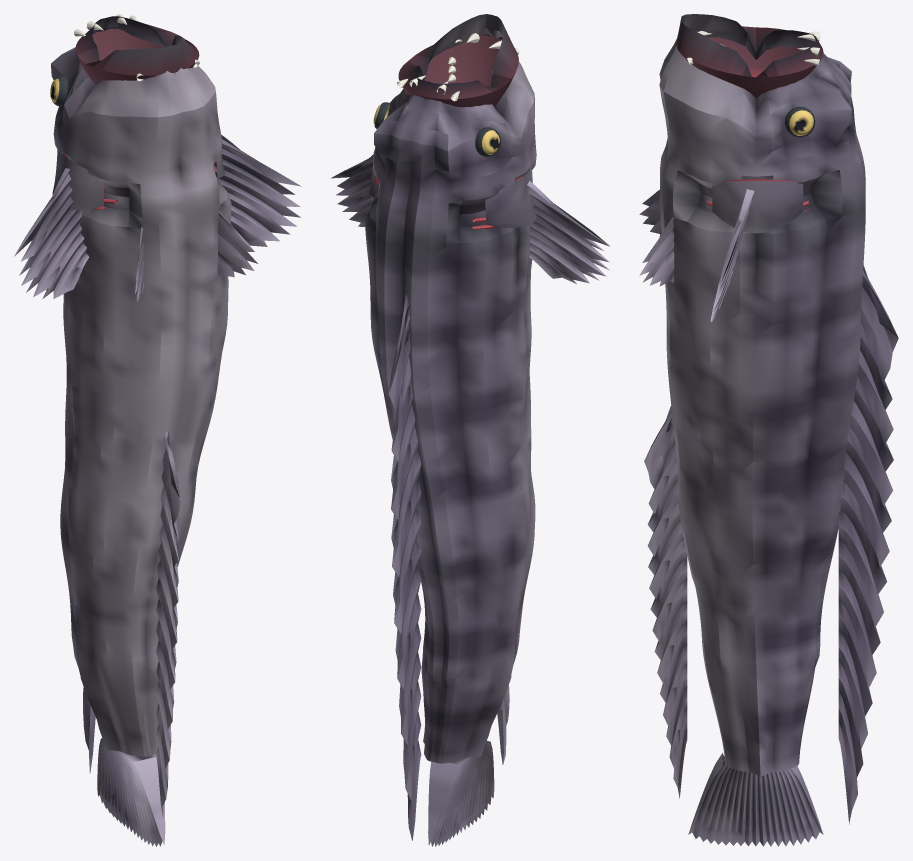
File: fish_wolffish.glb
3 renders of one model, left to right at view 1: azimuth 30°, elevation 25°; view 2: azimuth 150°, elevation 25°; view 3: azimuth 270°, elevation 25°, orthographic. The views are drawn at different scales.
Parts seen in each view (by area): view 1: Fish_wolffish; view 2: Fish_wolffish; view 3: Fish_wolffish.
Boxes of the visible parts, left/top/right/bottom form: Fish_wolffish: left=14, top=14, right=301, bottom=846; Fish_wolffish: left=331, top=14, right=610, bottom=846; Fish_wolffish: left=639, top=14, right=898, bottom=846.
Bounding box in the file's own units: 0.4772 × 1.29 × 0.3648.
